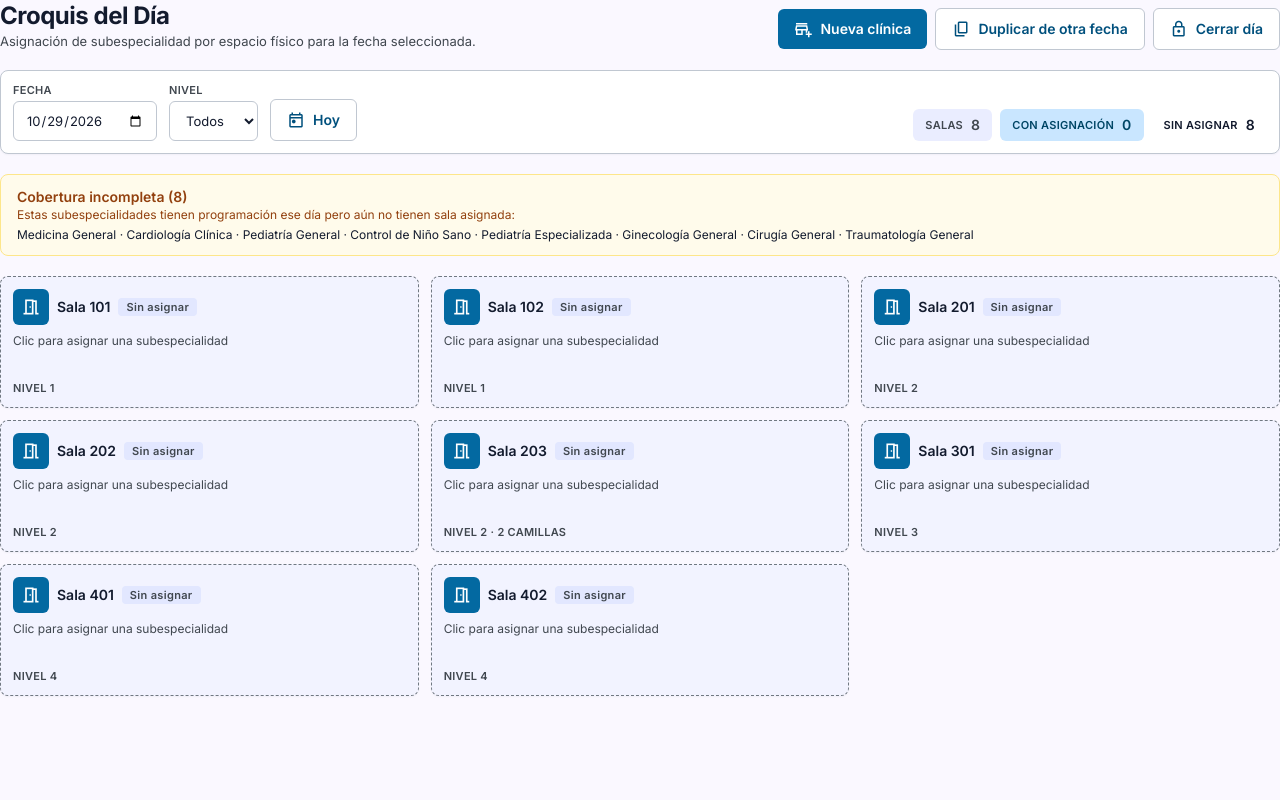
Test: CroquisPage › agrega y luego quita una subespecialidad de una sala
The width and height of the screenshot is (1280, 800).
Click the button with test id "sala-101" at (209, 342), box x1=0 y1=276 x2=419 y2=408
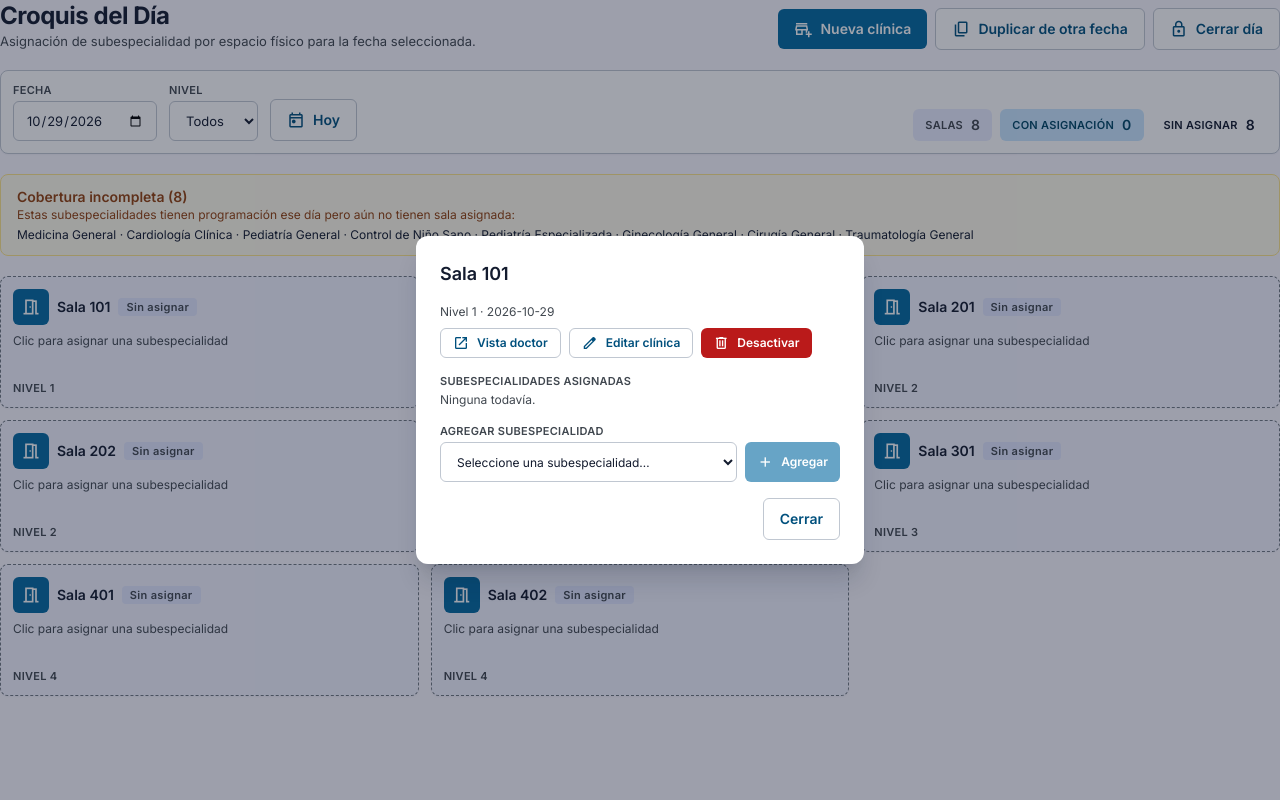
Select "Medicina General — Medicina Interna" in the dropdown at (589, 462), box x1=440 y1=442 x2=737 y2=482
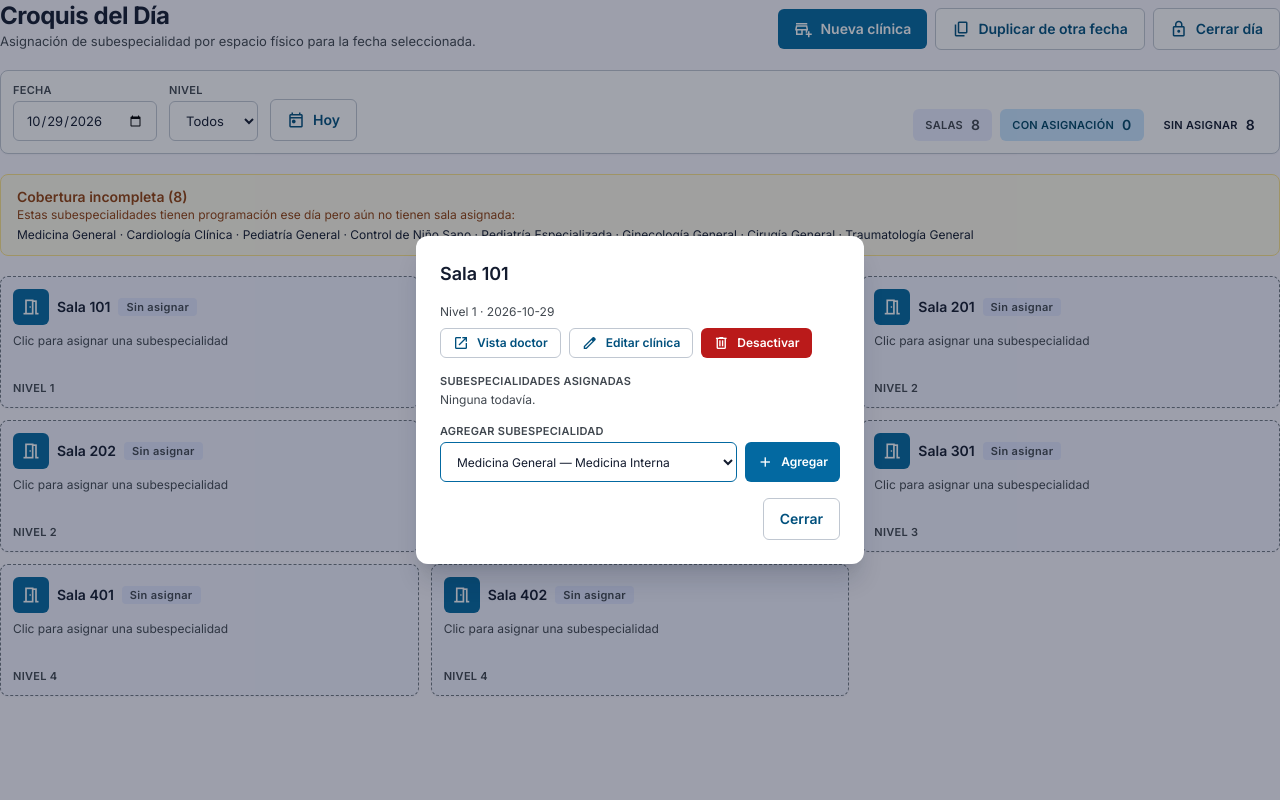
Click the button "Agregar" at (793, 462), box x1=745 y1=442 x2=840 y2=482
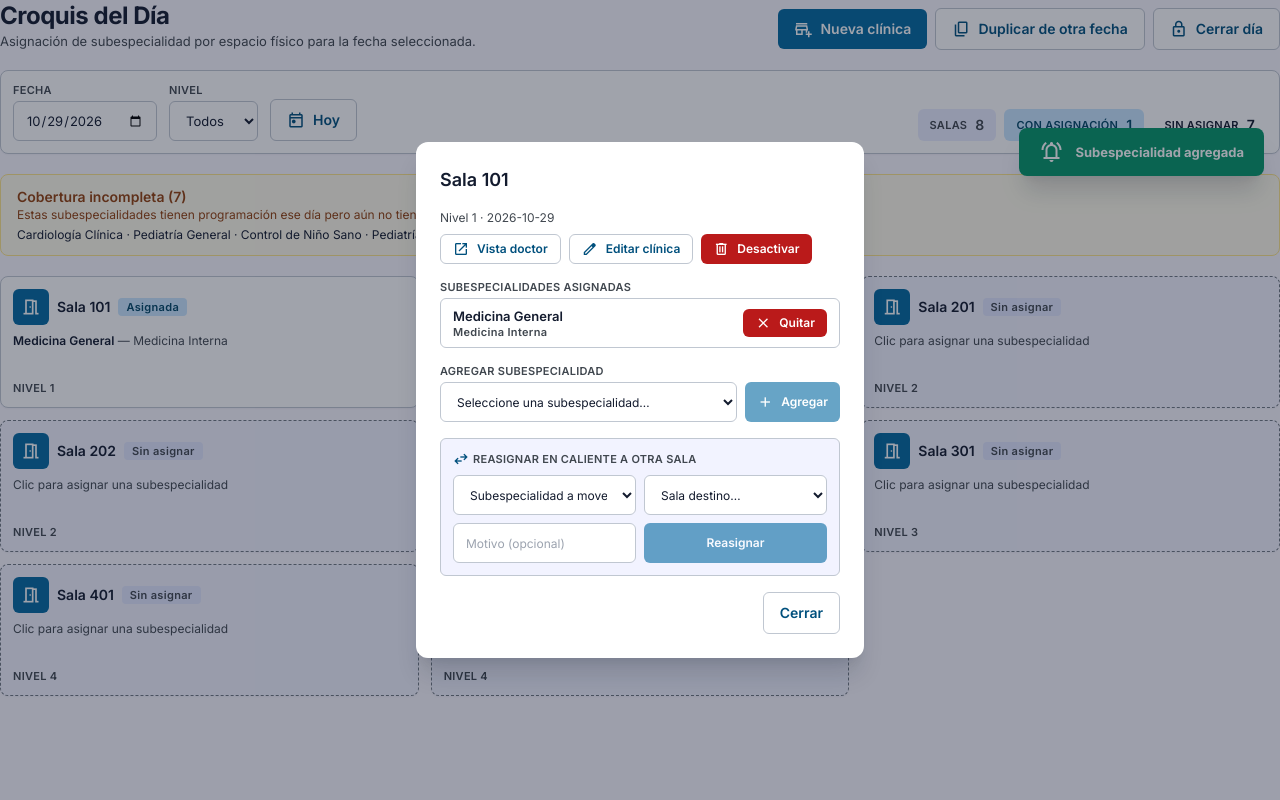
Now the text "Medicina General" below "Cobertura incompleta (7)" is shown, box x1=13 y1=333 x2=114 y2=348
Click the button "Quitar" at (785, 323), box x1=743 y1=309 x2=827 y2=337
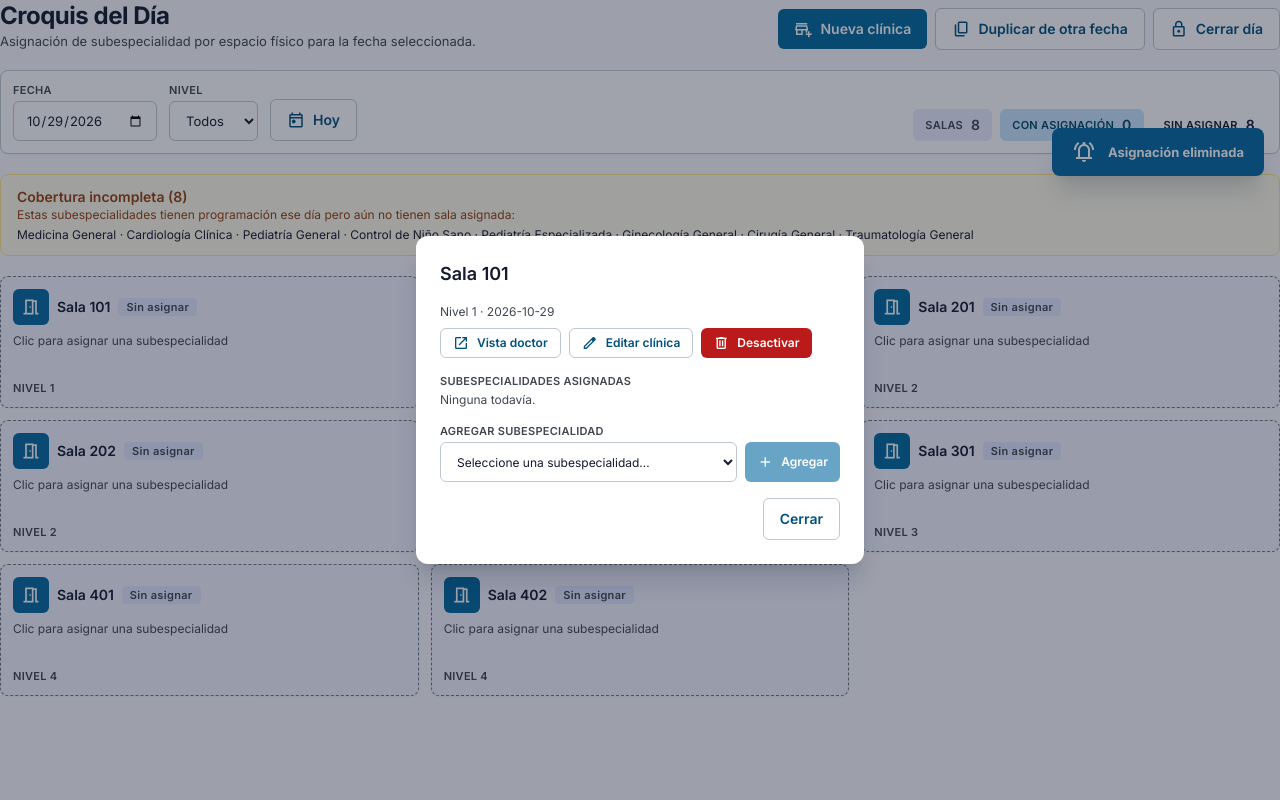
Now the text "Sin asignar" is shown, box x1=118 y1=298 x2=197 y2=316
